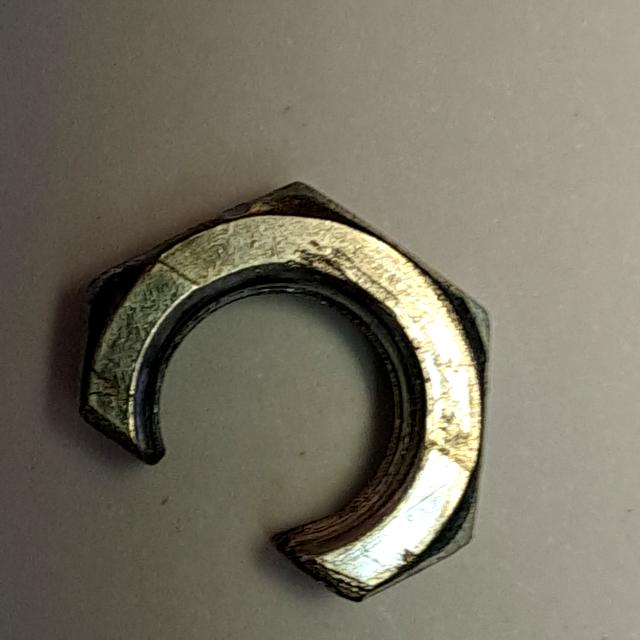Fracture: (66, 156, 508, 618)
